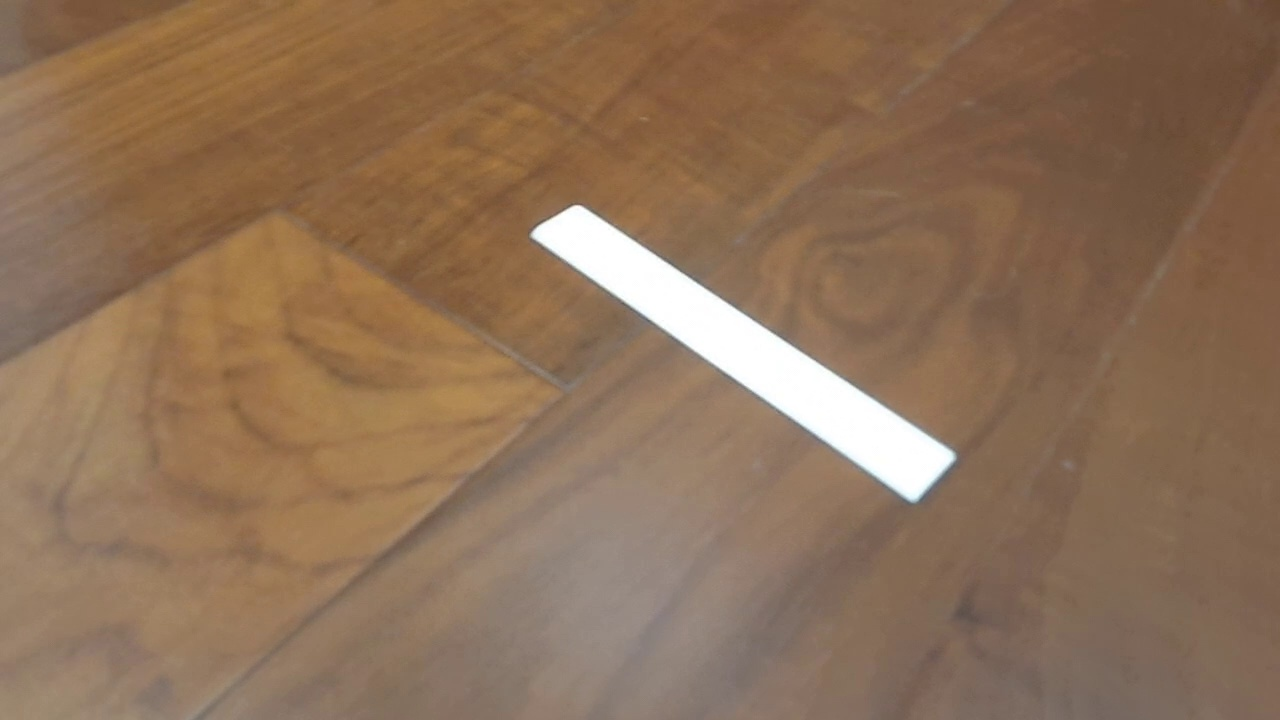ruler: (527, 202, 961, 506)
